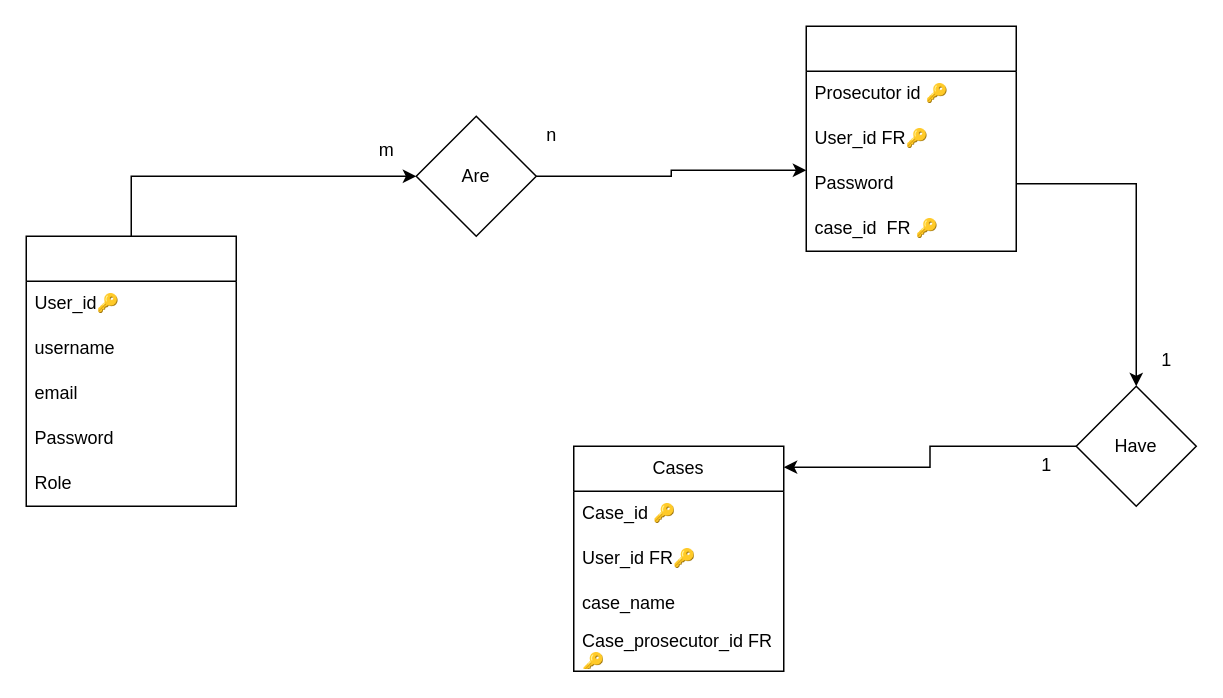
The diagram is 1223 pixels wide and 698 high, and some of its shapes have lost their labels. The shapes that lost their labels are listed below. From the top down, each one's box as (x1, y1, x2, y2) in pixels, then its label:
(805, 25, 1016, 251): Prosecutors
(25, 235, 236, 506): Users
